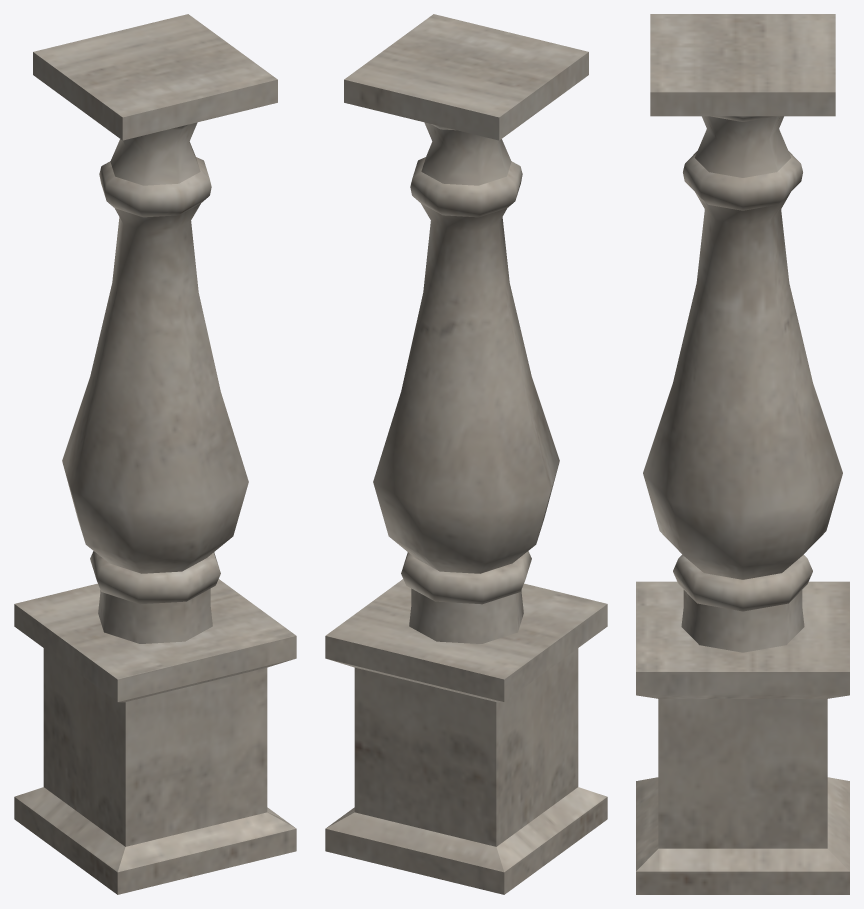
The model's file is Roof_Fence_Pillar.FBX.
The picture shows the model from 3 angles, left to right: view 1: azimuth 30°, elevation 25°; view 2: azimuth 150°, elevation 25°; view 3: azimuth 270°, elevation 25°; orthographic projection. The views are drawn at different scales.
Visible parts, largest first — view 1: Pillar_LOD00; view 2: Pillar_LOD00; view 3: Pillar_LOD00.
Boxes of the visible parts, <box> form: Pillar_LOD00: <box>14,14,296,894</box>; Pillar_LOD00: <box>325,14,607,894</box>; Pillar_LOD00: <box>636,14,849,894</box>.
Size of what is drawn, in the model's own units: 28.91 by 119 by 28.91.
Materials: 1 (1 with a texture image).
